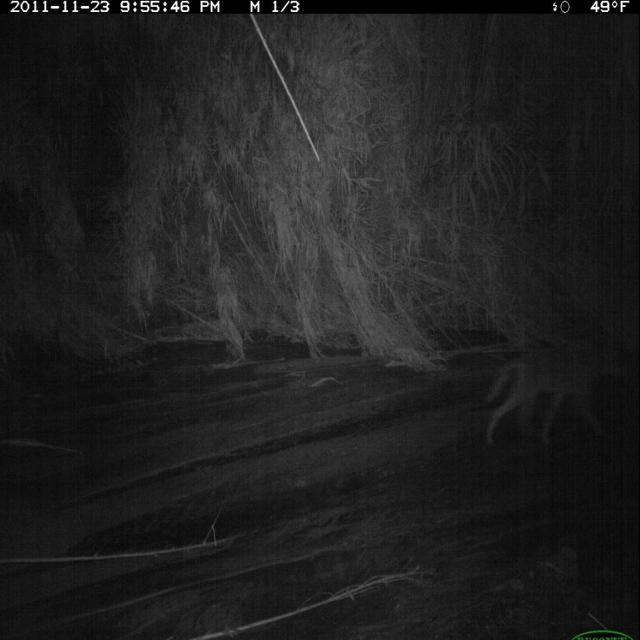coyote: (482, 333, 632, 454)
